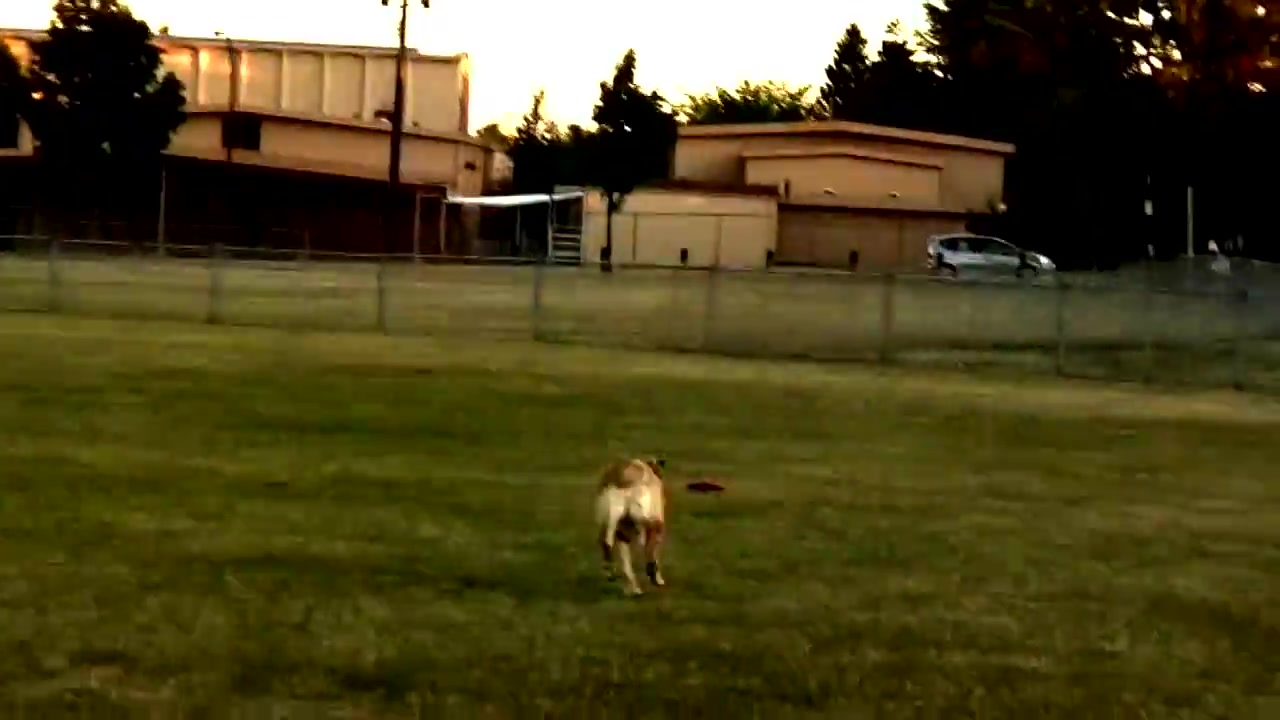dog: (592, 449, 681, 596)
